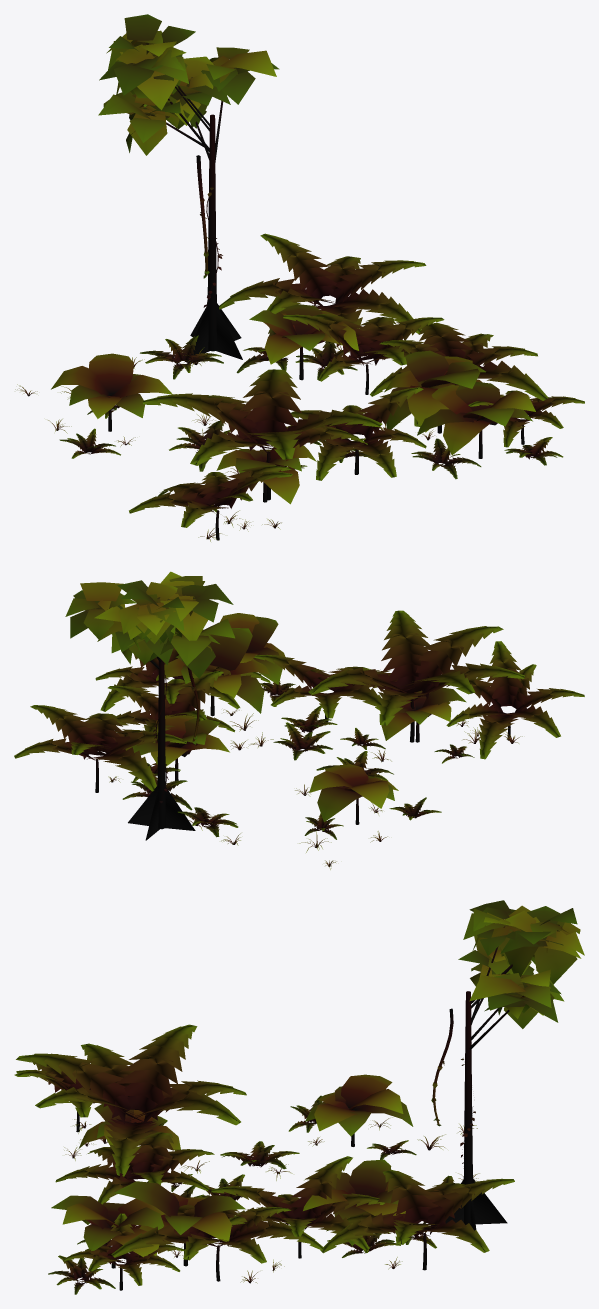
The model's file is patch_palmgrove.glb.
The picture shows the model from 3 angles, top to bottom: view 1: azimuth 30°, elevation 25°; view 2: azimuth 150°, elevation 25°; view 3: azimuth 270°, elevation 25°; orthographic projection. The views are drawn at different scales.
Parts seen in each view (by area): view 1: patch_palmgrove; view 2: patch_palmgrove; view 3: patch_palmgrove.
Boxes of the visible parts, x1=… form: patch_palmgrove: x1=15, y1=14, x2=584, y2=541; patch_palmgrove: x1=14, y1=571, x2=584, y2=869; patch_palmgrove: x1=14, y1=900, x2=584, y2=1294.
Bounding box in the file's own units: 19.39 × 12.53 × 21.5.
Materials: 1 (1 with a texture image).
